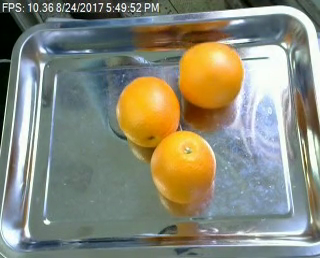Orange: (150, 131, 217, 204), (115, 75, 180, 148), (178, 42, 244, 109)
